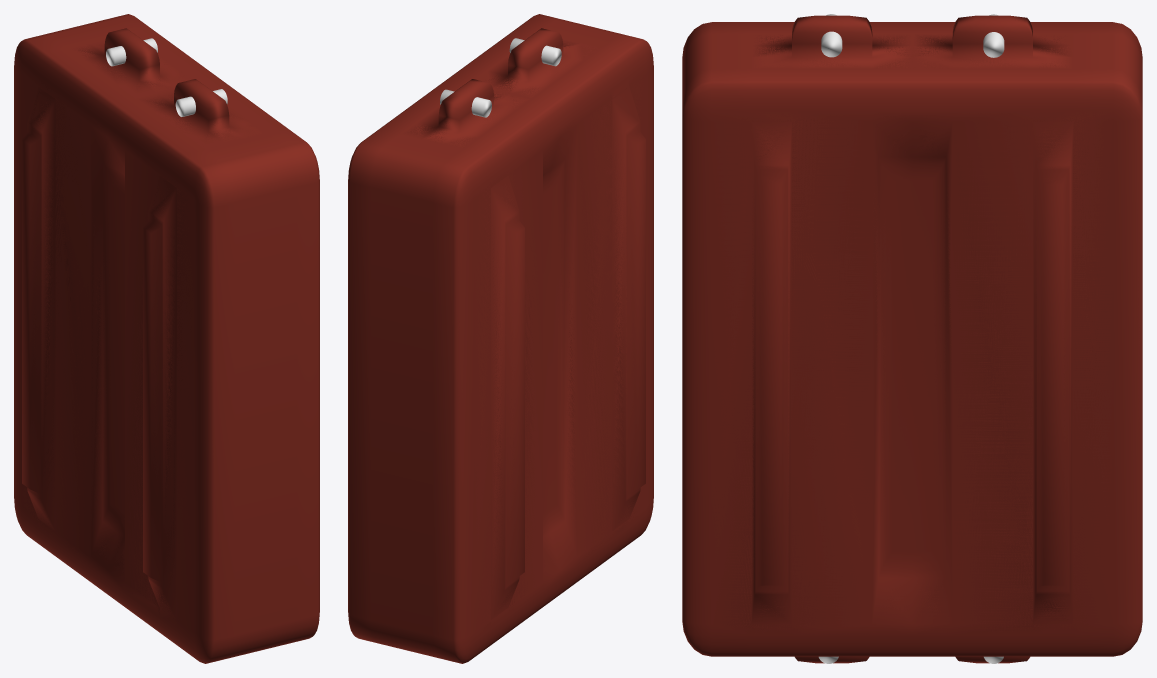
The model's file is 연료(퀴즈 문제 오답정답예시).fbx.
The picture shows the model from 3 angles, left to right: view 1: azimuth 30°, elevation 25°; view 2: azimuth 150°, elevation 25°; view 3: azimuth 270°, elevation 25°; orthographic projection. The views are drawn at different scales.
Visible parts, largest first — view 1: Cube, Cylinder.003; view 2: Cube, Cylinder.003, Cylinder; view 3: Cube.
Part boxes in pixels (left/top/right/bottom): Cube: left=14, top=14, right=319, bottom=663; Cylinder.003: left=175, top=89, right=227, bottom=116; Cube: left=348, top=14, right=653, bottom=663; Cylinder.003: left=509, top=38, right=561, bottom=66; Cylinder: left=440, top=89, right=491, bottom=117; Cube: left=682, top=15, right=1142, bottom=663.
Size of the model in its own units: 294 by 966 by 628.
